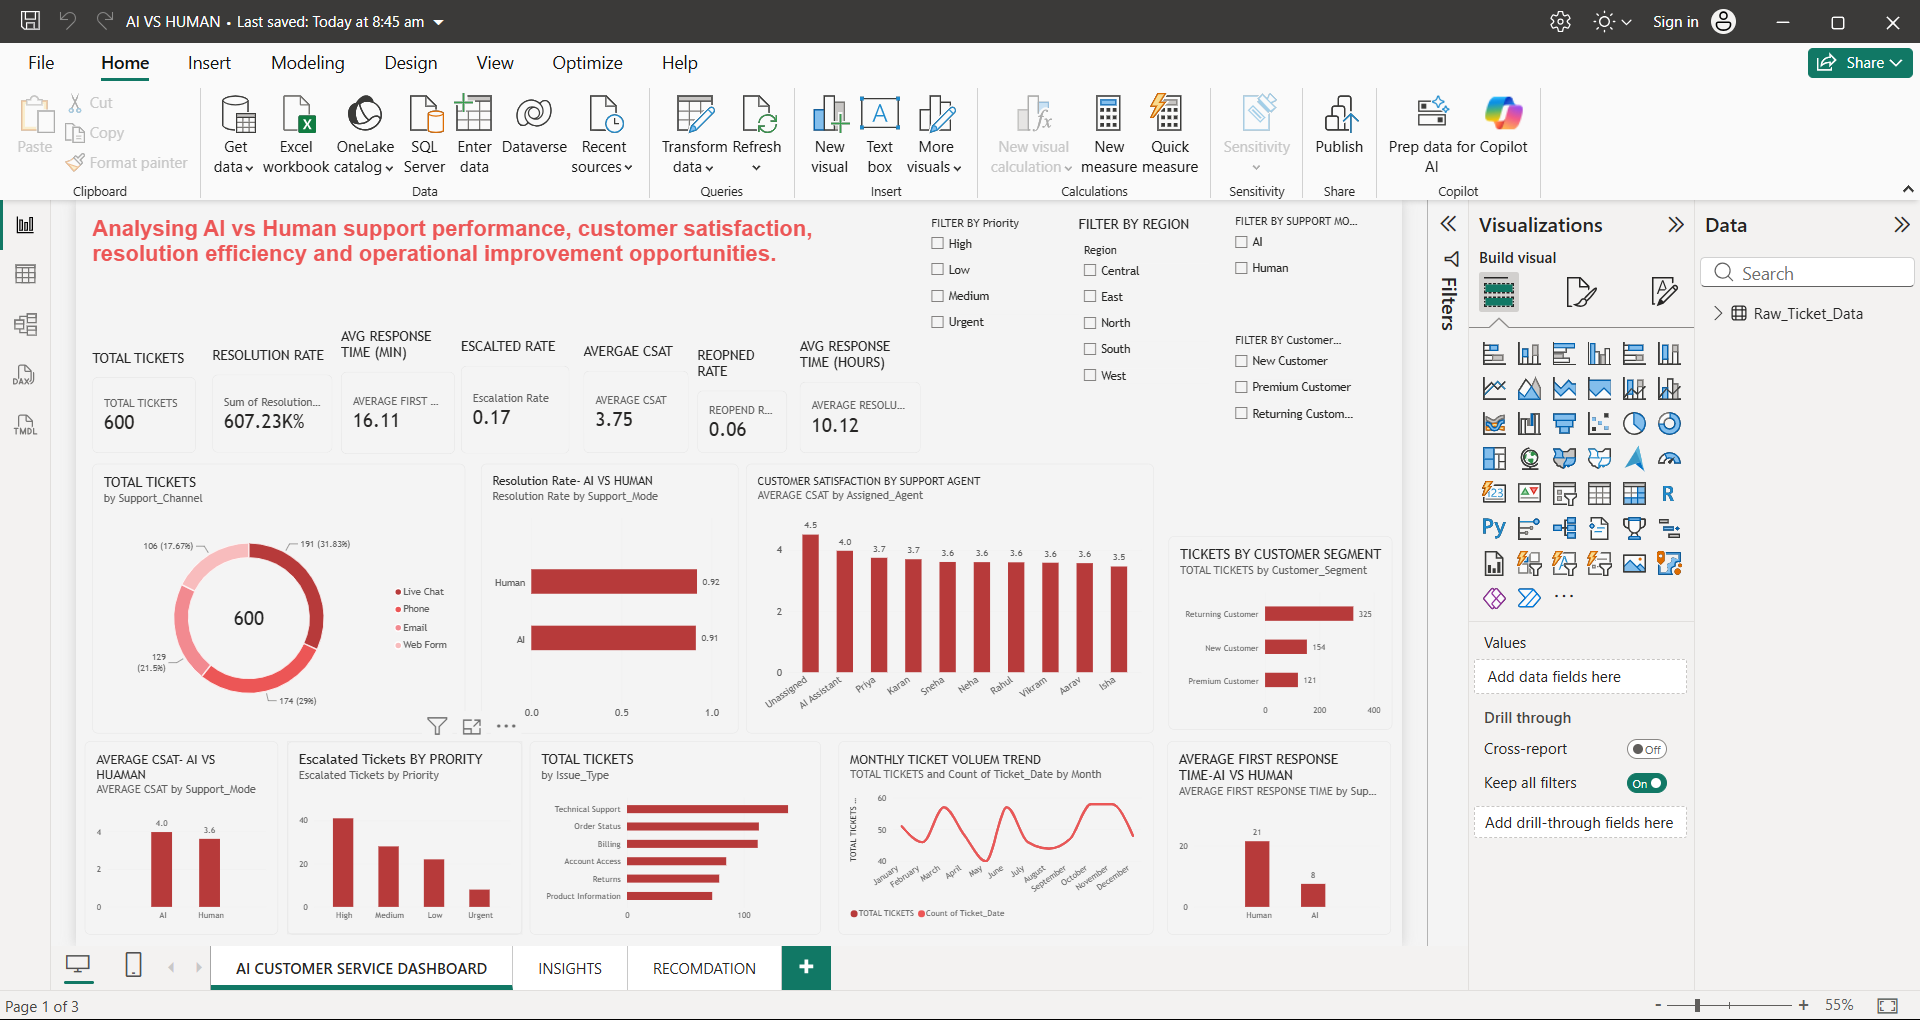

This screenshot's page, from the dashboard's own definition file:
{"tool":"powerbi","page":{"name":"AI CUSTOMER SERVICE DASHBOARD","canvas":[1920,1080],"ordinal":0},"visuals":[{"type":"cardVisual","title":"TOTAL TICKETS","fields":{"Data":["Raw_Ticket_Data.TOTAL TICKETS"]},"box":[22.9,217.1,150,150],"z":0},{"type":"cardVisual","title":"RESOLUTION RATE","fields":{"Data":["Sum(Raw_Ticket_Data.Resolution_Time_Hours)"]},"box":[197.1,214.3,174.3,152.9],"z":1000},{"type":"cardVisual","title":"AVG RESPONSE TIME (MIN)","fields":{"Data":["Raw_Ticket_Data.AVERAGE FIRST RESPONSE TIME"]},"box":[384.3,185.7,165.7,181.4],"z":2000},{"type":"cardVisual","title":"AVG RESPONSE TIME (HOURS)","fields":{"Data":["Raw_Ticket_Data.AVERAGE RESOLUTION TIME"]},"box":[1047.1,200,175.7,165.7],"z":3000},{"type":"cardVisual","title":"AVERGAE CSAT","fields":{"Data":["Raw_Ticket_Data.AVERAGE CSAT"]},"box":[734.3,208.6,152.9,158.6],"z":4000},{"type":"cardVisual","title":"ESCALTED RATE","fields":{"Data":["Raw_Ticket_Data.Escalation Rate"]},"box":[557.1,200,157.1,167.1],"z":5000},{"type":"cardVisual","title":"REOPNED RATE","fields":{"Data":["Raw_Ticket_Data.REOPEND RATE"]},"box":[900,214.3,130,152.9],"z":6000},{"type":"clusteredBarChart","title":"Resolution Rate- AI VS HUMAN","fields":{"Category":["Raw_Ticket_Data.Support_Mode"],"Y":["Raw_Ticket_Data.Resolution Rate"]},"box":[587.1,381.4,372.9,390],"z":7000},{"type":"clusteredColumnChart","title":"AVERAGE CSAT- AI VS HUAMAN","fields":{"Category":["Raw_Ticket_Data.Support_Mode"],"Y":["Raw_Ticket_Data.AVERAGE CSAT"]},"box":[12.9,782.9,280,280],"z":8000},{"type":"lineChart","title":"MONTHLY TICKET VOLUEM TREND","fields":{"Category":["Raw_Ticket_Data.Ticket_Date.Variation.Date Hierarchy.Month"],"Y":["Raw_Ticket_Data.TOTAL TICKETS","CountNonNull(Raw_Ticket_Data.Ticket_Date)"]},"box":[1104.3,782.9,455.7,280],"z":9000},{"type":"clusteredBarChart","fields":{"Category":["Raw_Ticket_Data.Issue_Type"],"Y":["Raw_Ticket_Data.TOTAL TICKETS"]},"box":[657.1,782.9,421.4,280],"z":10000},{"type":"donutChart","fields":{"Category":["Raw_Ticket_Data.Support_Channel"],"Y":["Raw_Ticket_Data.TOTAL TICKETS"]},"box":[22.9,381.4,540,390],"z":11000},{"type":"clusteredColumnChart","title":"CUSTOMER SATISFACTION BY SUPPORT AGENT","fields":{"Category":["Raw_Ticket_Data.Assigned_Agent"],"Y":["Raw_Ticket_Data.AVERAGE CSAT"]},"box":[970,381.4,590,390],"z":12000},{"type":"clusteredColumnChart","title":"Escalated Tickets BY PRORITY","fields":{"Category":["Raw_Ticket_Data.Priority"],"Y":["Raw_Ticket_Data.Escalated Tickets"]},"box":[305.7,782.9,340,280],"z":13000},{"type":"clusteredColumnChart","title":"AVERAGE FIRST RESPONSE TIME-AI VS HUMAN","fields":{"Category":["Raw_Ticket_Data.Support_Mode"],"Y":["Raw_Ticket_Data.AVERAGE FIRST RESPONSE TIME"]},"box":[1580,782.9,324.3,280],"z":14000},{"type":"clusteredBarChart","title":"TICKETS BY CUSTOMER SEGMENT","fields":{"Category":["Raw_Ticket_Data.Customer_Segment"],"Y":["Raw_Ticket_Data.TOTAL TICKETS"]},"box":[1581.4,487.1,324.3,280],"z":15000},{"type":"slicer","title":"FILTER BY REGION","fields":{"Values":["Raw_Ticket_Data.Region"]},"box":[1451.4,24.3,188.6,341.4],"z":16000},{"type":"slicer","fields":{"Values":["Raw_Ticket_Data.Support_Mode"]},"box":[1670,22,204,132],"z":17000},{"type":"slicer","fields":{"Values":["Raw_Ticket_Data.Priority"]},"box":[1230,22.9,221.4,342.9],"z":18000},{"type":"slicer","fields":{"Values":["Raw_Ticket_Data.Customer_Segment"]},"box":[1670,194.3,178.6,157.1],"z":19000},{"type":"textbox","box":[23.3,23.3,1198.3,161.7],"z":20000}]}

Visuals, with their boxes on the page's 1920x1080 design canvas (x1, y1, x2, y2). These are canvas units, not pixel positions in the 1920x1020 screenshot, which may show the page scaled, cropped or inside an application window:
"TOTAL TICKETS" cardVisual: (23, 217, 173, 367)
"RESOLUTION RATE" cardVisual: (197, 214, 371, 367)
"AVG RESPONSE TIME (MIN)" cardVisual: (384, 186, 550, 367)
"AVG RESPONSE TIME (HOURS)" cardVisual: (1047, 200, 1223, 366)
"AVERGAE CSAT" cardVisual: (734, 209, 887, 367)
"ESCALTED RATE" cardVisual: (557, 200, 714, 367)
"REOPNED RATE" cardVisual: (900, 214, 1030, 367)
"Resolution Rate- AI VS HUMAN" clusteredBarChart: (587, 381, 960, 771)
"AVERAGE CSAT- AI VS HUAMAN" clusteredColumnChart: (13, 783, 293, 1063)
"MONTHLY TICKET VOLUEM TREND" lineChart: (1104, 783, 1560, 1063)
clusteredBarChart - Raw_Ticket_Data.Issue_Type x Raw_Ticket_Data.TOTAL TICKETS: (657, 783, 1078, 1063)
donutChart - Raw_Ticket_Data.Support_Channel x Raw_Ticket_Data.TOTAL TICKETS: (23, 381, 563, 771)
"CUSTOMER SATISFACTION BY SUPPORT AGENT" clusteredColumnChart: (970, 381, 1560, 771)
"Escalated Tickets BY PRORITY" clusteredColumnChart: (306, 783, 646, 1063)
"AVERAGE FIRST RESPONSE TIME-AI VS HUMAN" clusteredColumnChart: (1580, 783, 1904, 1063)
"TICKETS BY CUSTOMER SEGMENT" clusteredBarChart: (1581, 487, 1906, 767)
"FILTER BY REGION" slicer: (1451, 24, 1640, 366)
slicer - Raw_Ticket_Data.Support_Mode: (1670, 22, 1874, 154)
slicer - Raw_Ticket_Data.Priority: (1230, 23, 1451, 366)
slicer - Raw_Ticket_Data.Customer_Segment: (1670, 194, 1849, 351)
textbox: (23, 23, 1222, 185)
